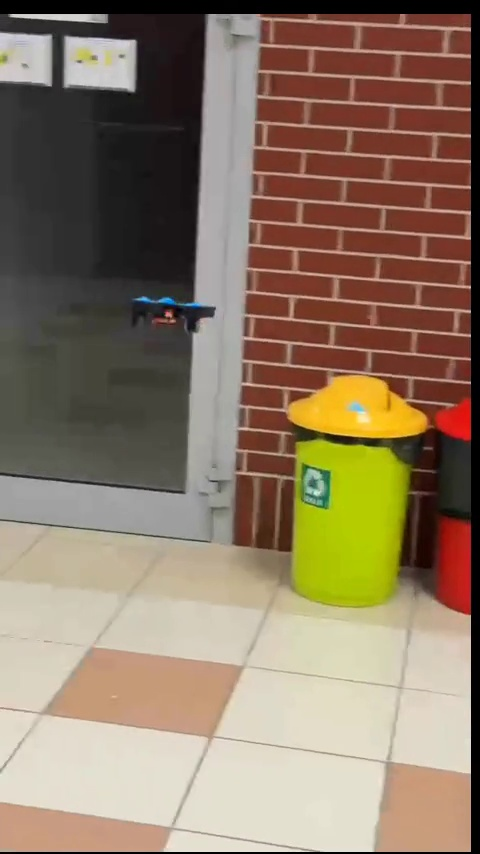drone: (126, 290, 221, 337)
